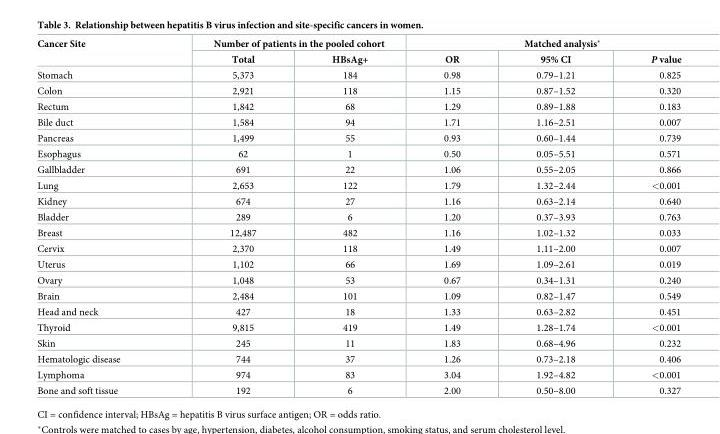table: (36, 36, 680, 395)
table column: (36, 36, 166, 395), (166, 36, 293, 395), (293, 36, 413, 395), (497, 36, 612, 395), (413, 36, 497, 395), (612, 36, 680, 395)
table column header: (36, 36, 680, 67)
table row: (36, 50, 680, 67), (36, 82, 680, 98), (36, 98, 680, 114), (36, 114, 680, 130), (36, 145, 680, 161), (36, 161, 680, 177), (36, 177, 680, 193), (36, 193, 680, 209), (36, 224, 680, 240), (36, 240, 680, 256), (36, 256, 680, 272), (36, 287, 680, 303), (36, 303, 680, 319), (36, 319, 680, 335), (36, 335, 680, 351), (36, 366, 680, 382), (36, 67, 680, 82), (36, 130, 680, 145), (36, 209, 680, 224), (36, 272, 680, 287), (36, 351, 680, 366), (36, 36, 680, 50), (36, 382, 680, 395)
table spanning cell: (36, 36, 166, 67), (413, 36, 680, 50), (166, 36, 413, 50)
